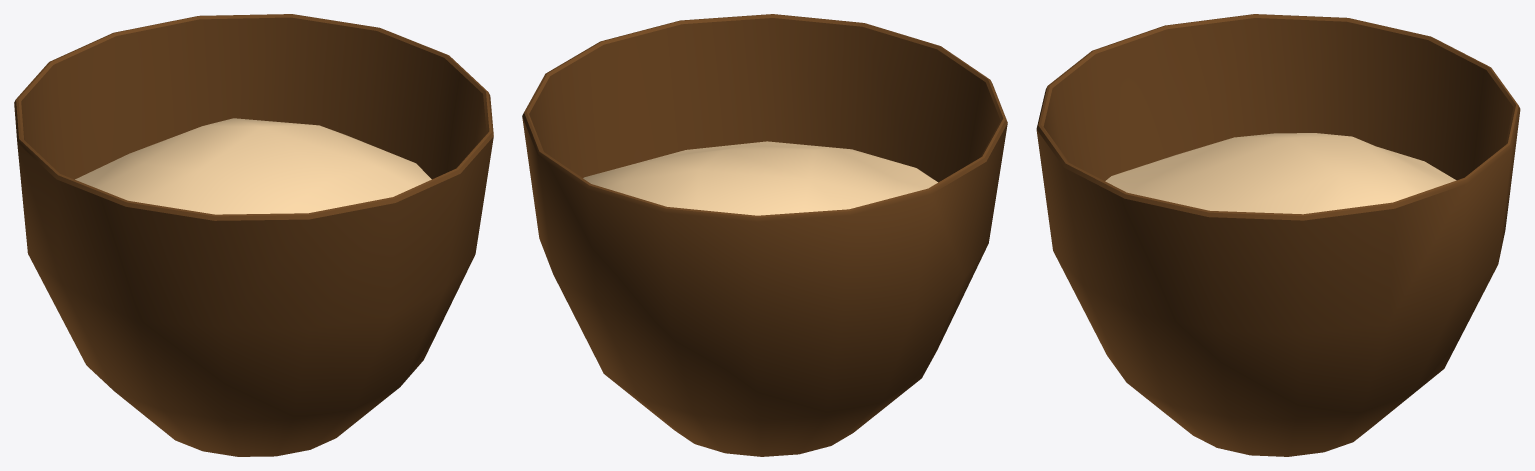
The model's file is bowl with dough.fbx.
3 renders of one model, left to right at view 1: azimuth 30°, elevation 25°; view 2: azimuth 150°, elevation 25°; view 3: azimuth 270°, elevation 25°, orthographic.
Parts seen in each view (by area): view 1: stand mixer bowlwith dough; view 2: stand mixer bowlwith dough; view 3: stand mixer bowlwith dough.
Part boxes in pixels (x1,y1,x2,y2): stand mixer bowlwith dough: [14, 14, 493, 456]; stand mixer bowlwith dough: [522, 14, 1007, 456]; stand mixer bowlwith dough: [1036, 14, 1520, 456].
Size of the model in its own units: 25.05 by 17.48 by 25.08.
